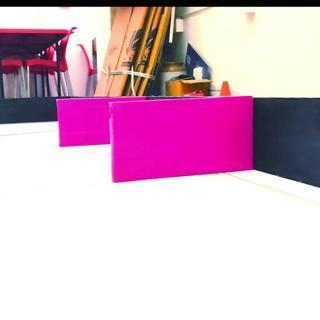xparking: (112, 100, 254, 176), (58, 98, 109, 146)
